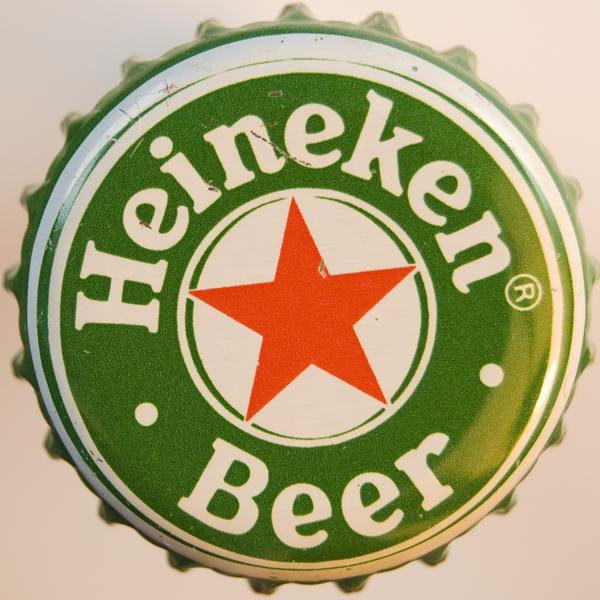heineken: (1, 1, 600, 600)
